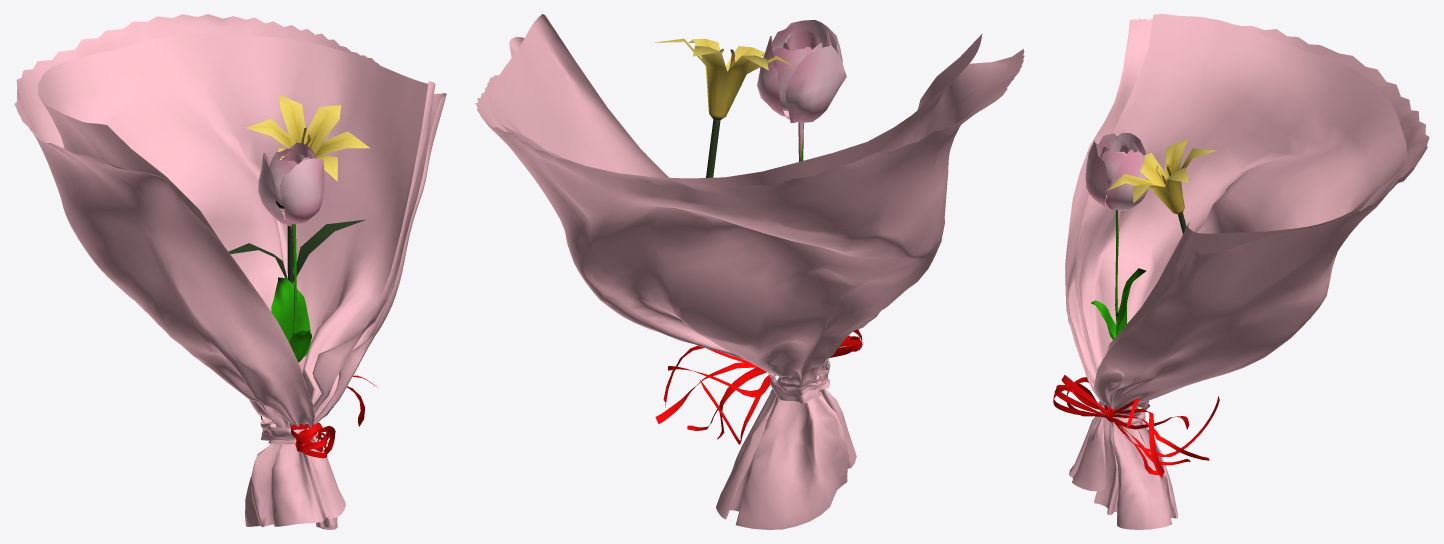
3 views of the same model, side by side, from view 1: azimuth 30°, elevation 25°; view 2: azimuth 150°, elevation 25°; view 3: azimuth 270°, elevation 25° (orthographic). The views are drawn at different scales.
Parts seen in each view (by area): view 1: inner, outer, Geometry, SM_Lilly1, ribbon, parcel_knot; view 2: outer, inner, Geometry, SM_Lilly1, ribbon, parcel_knot; view 3: inner, outer, Geometry, ribbon, SM_Lilly1.
Part boxes in pixels (bbox=[...]): inner: bbox=[38, 32, 435, 428]; outer: bbox=[14, 14, 446, 529]; Geometry: bbox=[258, 142, 324, 362]; SM_Lilly1: bbox=[228, 94, 370, 284]; ribbon: bbox=[260, 375, 376, 458]; parcel_knot: bbox=[260, 418, 308, 444]; outer: bbox=[475, 36, 1024, 529]; inner: bbox=[488, 14, 982, 187]; Geometry: bbox=[757, 20, 846, 161]; SM_Lilly1: bbox=[655, 38, 792, 177]; ribbon: bbox=[655, 329, 862, 444]; parcel_knot: bbox=[767, 358, 830, 403]; inner: bbox=[1074, 14, 1407, 376]; outer: bbox=[1065, 18, 1429, 529]; Geometry: bbox=[1085, 133, 1149, 339]; ribbon: bbox=[1053, 375, 1219, 478]; SM_Lilly1: bbox=[1106, 138, 1216, 233].
Size of the model in its own units: 1.81 by 1.9 by 1.55.
7 materials, 2 textured.
